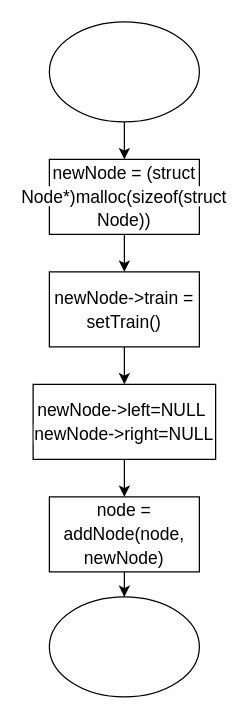
Image size: 248x719. Some labels were removed from this diagram. The centre of each missing label's shape, as x and y in pixels:
Конец: (123,646)
Начало addTrain: (123,71)
